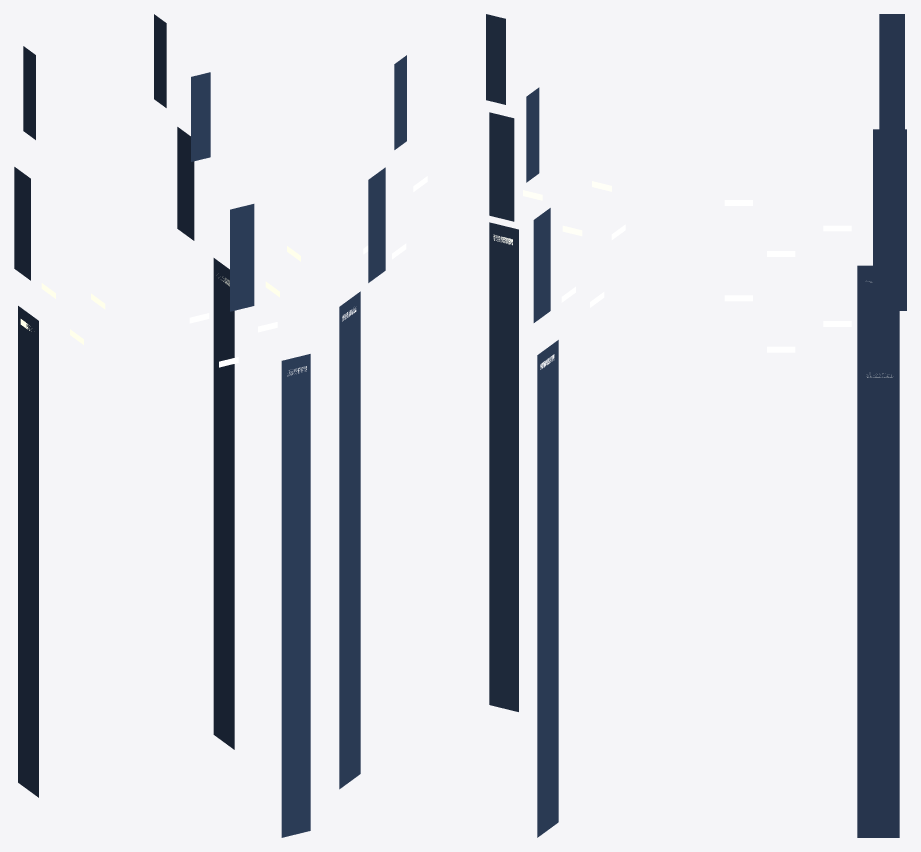
The model's file is SM_MM_A02_Facade.fbx.
3 views of the same model, side by side, from view 1: azimuth 30°, elevation 25°; view 2: azimuth 150°, elevation 25°; view 3: azimuth 270°, elevation 25° (orthographic).
Visible parts, largest first — view 1: SM_MM_A02_Facade; view 2: SM_MM_A02_Facade; view 3: SM_MM_A02_Facade.
Part boxes in pixels (x1,y1,x2,y2): SM_MM_A02_Facade: (14, 14, 310, 837); SM_MM_A02_Facade: (339, 14, 625, 837); SM_MM_A02_Facade: (724, 14, 906, 837).
Size of the model in its own units: 24.05 by 26.91 by 86.
